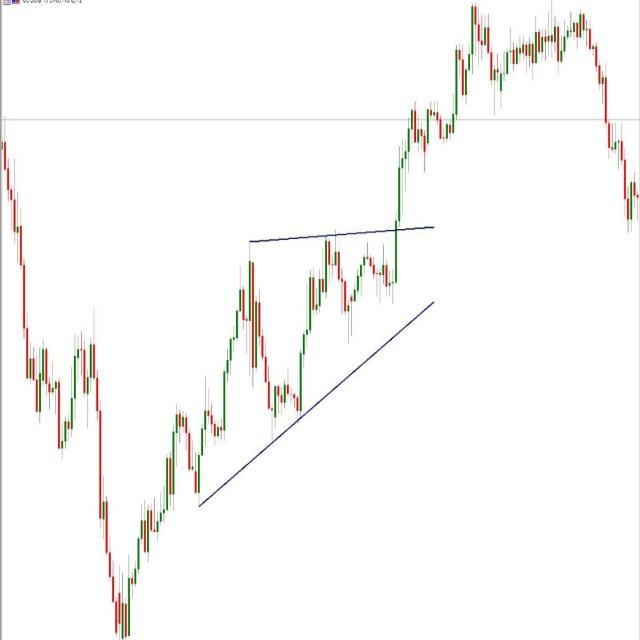Ascending-Triangle: (131, 235, 415, 552)
